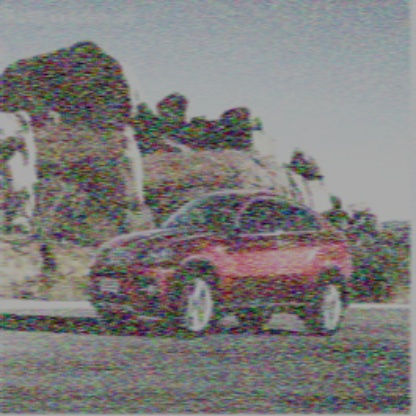Vehicle: (88, 191, 355, 339)
